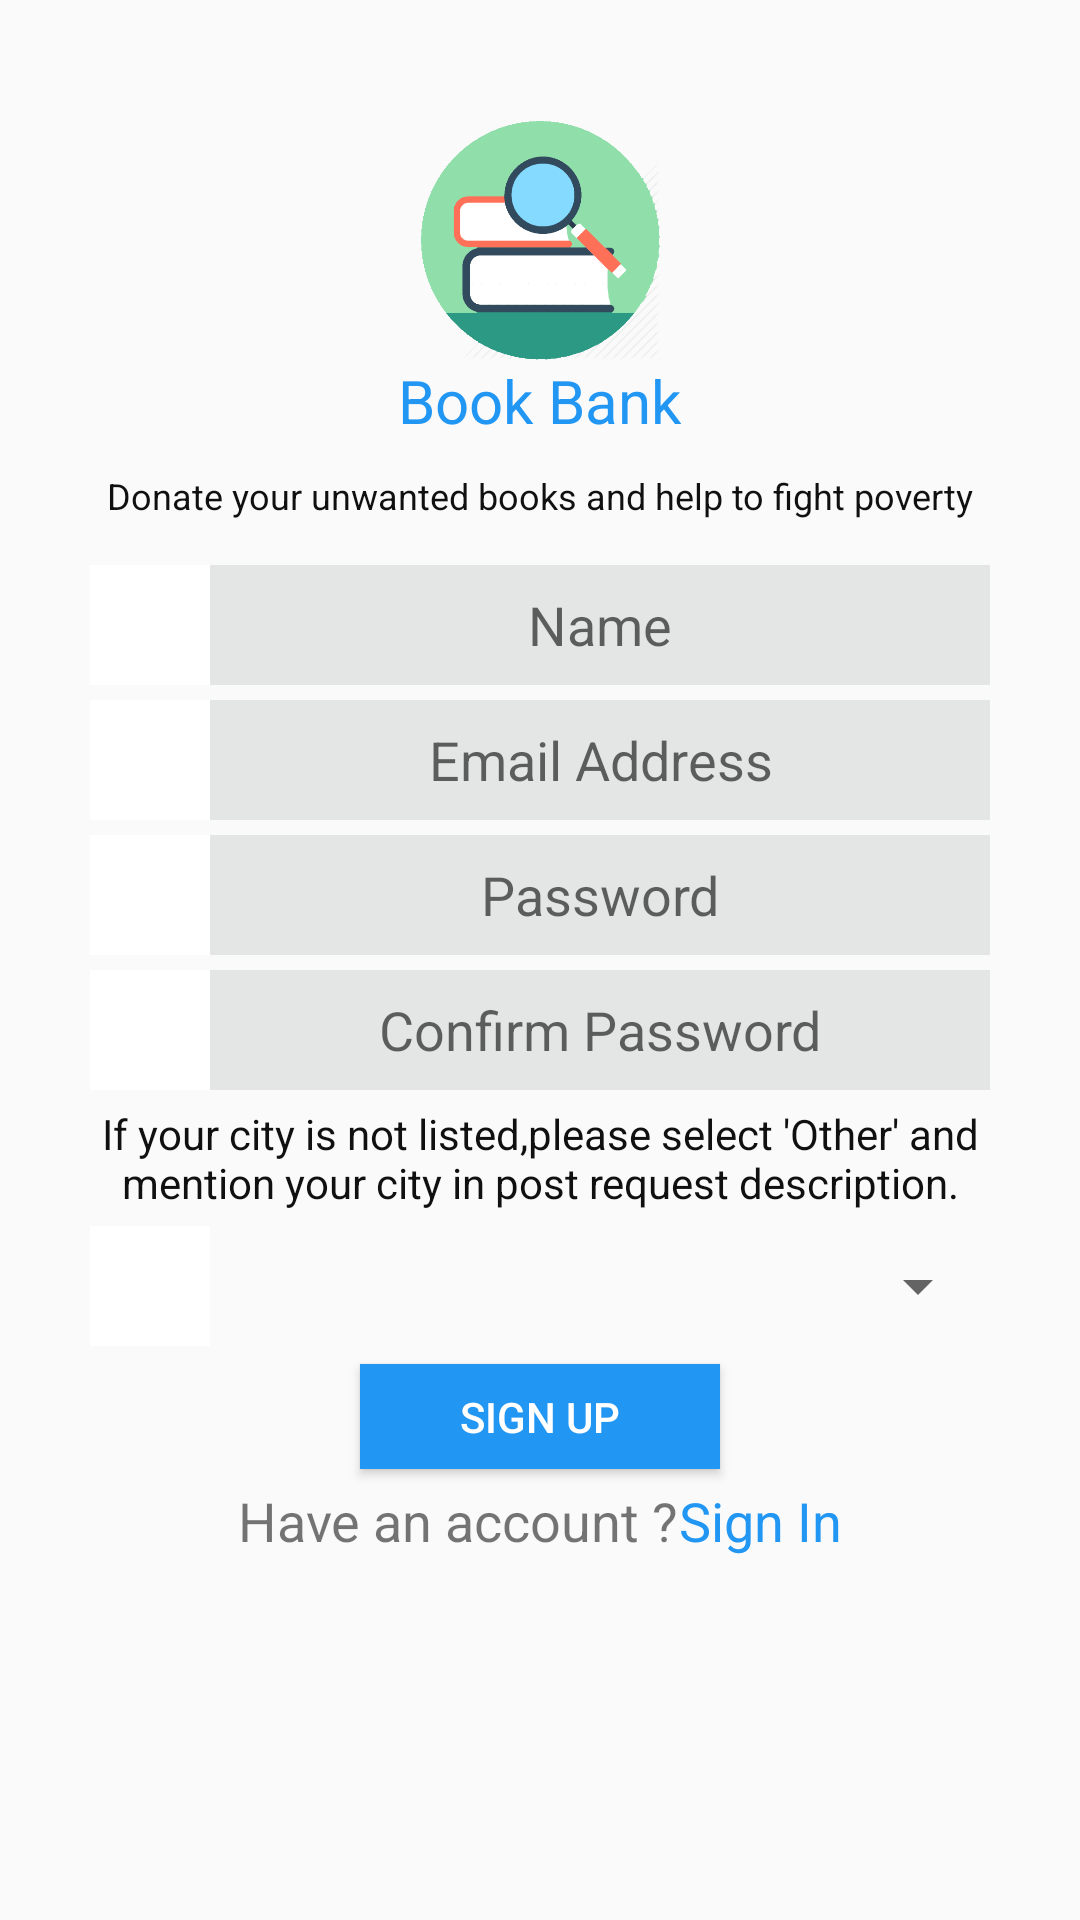

Named icons in this screenshot (1080w x 1920h) and their centers, (x,y):
app: (540,240)
